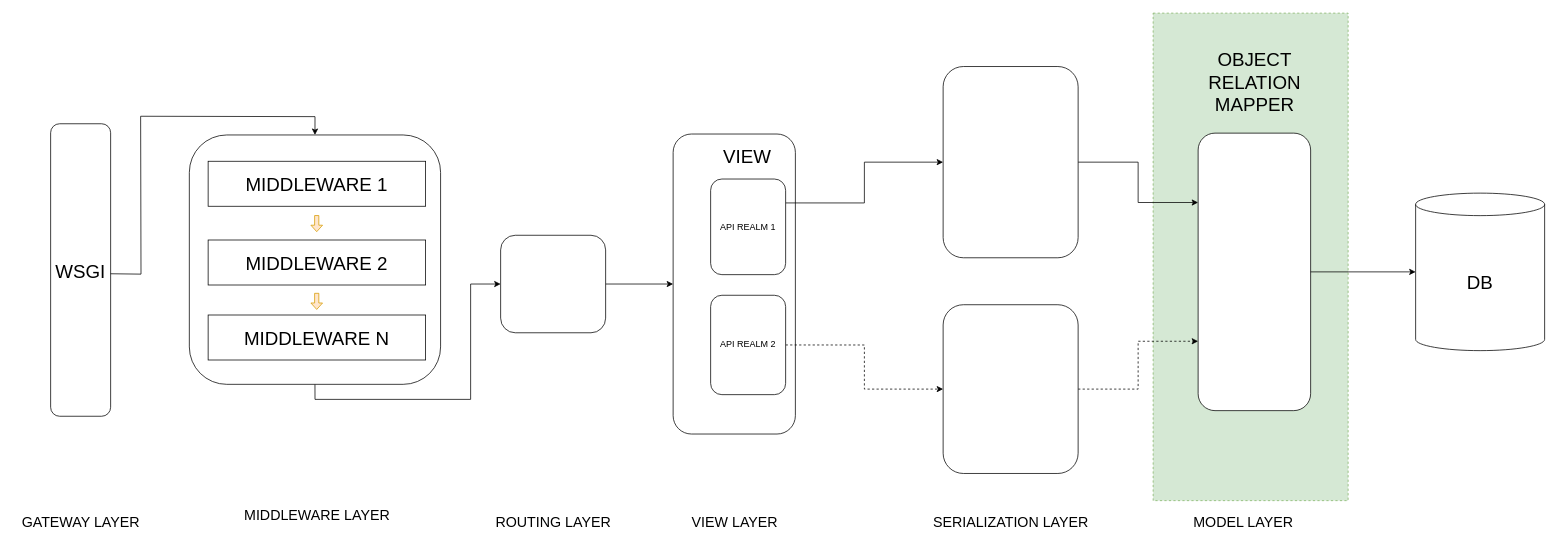
Some shapes in this 1558 by 551 pixel diagram are drawn without their labels. The shapes that lost their labels are listed below. From the top down, each one's box as (x1, y1, x2, y2) in pixels, then its label:
(942, 66, 1078, 258): REALM 1 SERIALIZER
(500, 235, 606, 333): ROUTER
(1197, 132, 1311, 411): MODEL
(942, 304, 1078, 473): REALM 2 SERIALIZER
